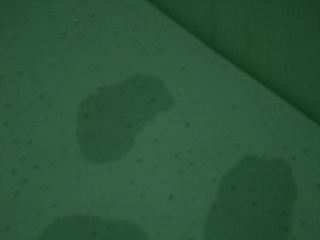Water_detected: (78, 77, 160, 157), (202, 166, 256, 237)
